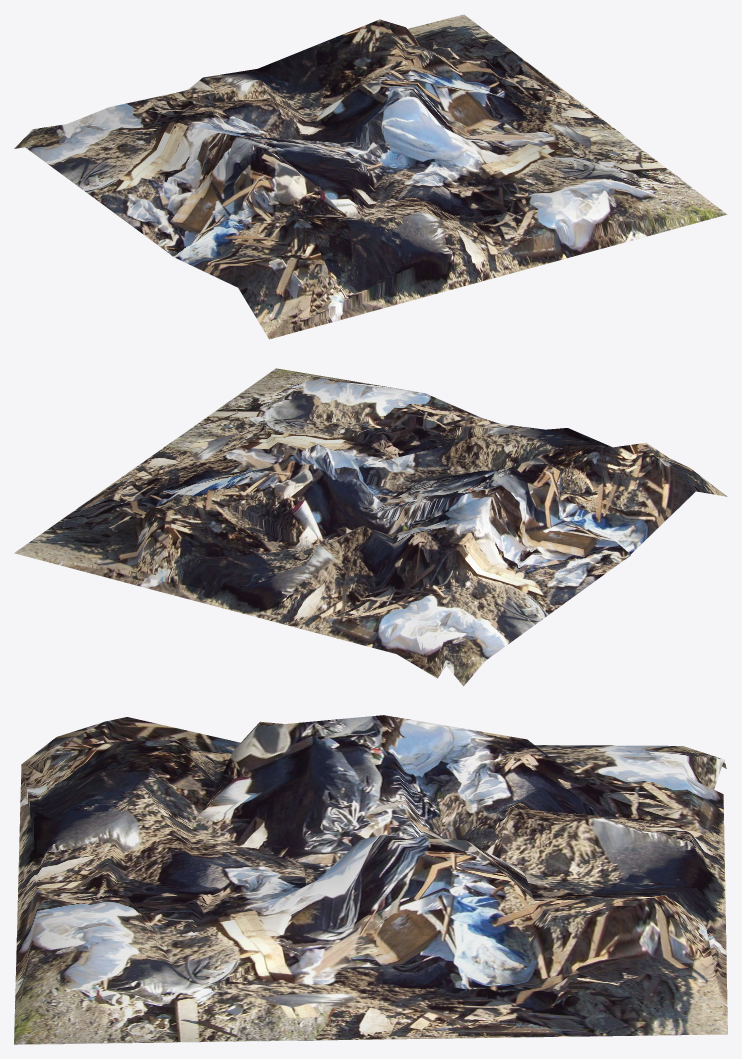
The model's file is junkpile_100.fbx.
3 views of the same model, one above another, from view 1: azimuth 30°, elevation 25°; view 2: azimuth 150°, elevation 25°; view 3: azimuth 270°, elevation 25° (orthographic). The views are drawn at different scales.
Visible parts, largest first — view 1: trash0; view 2: trash0; view 3: trash0.
Part boxes in pixels (left/top/right/bottom): trash0: left=14, top=14, right=727, bottom=339; trash0: left=14, top=368, right=727, bottom=686; trash0: left=14, top=715, right=727, bottom=1044.
Size of the model in its own units: 64.25 by 11.86 by 63.99.
